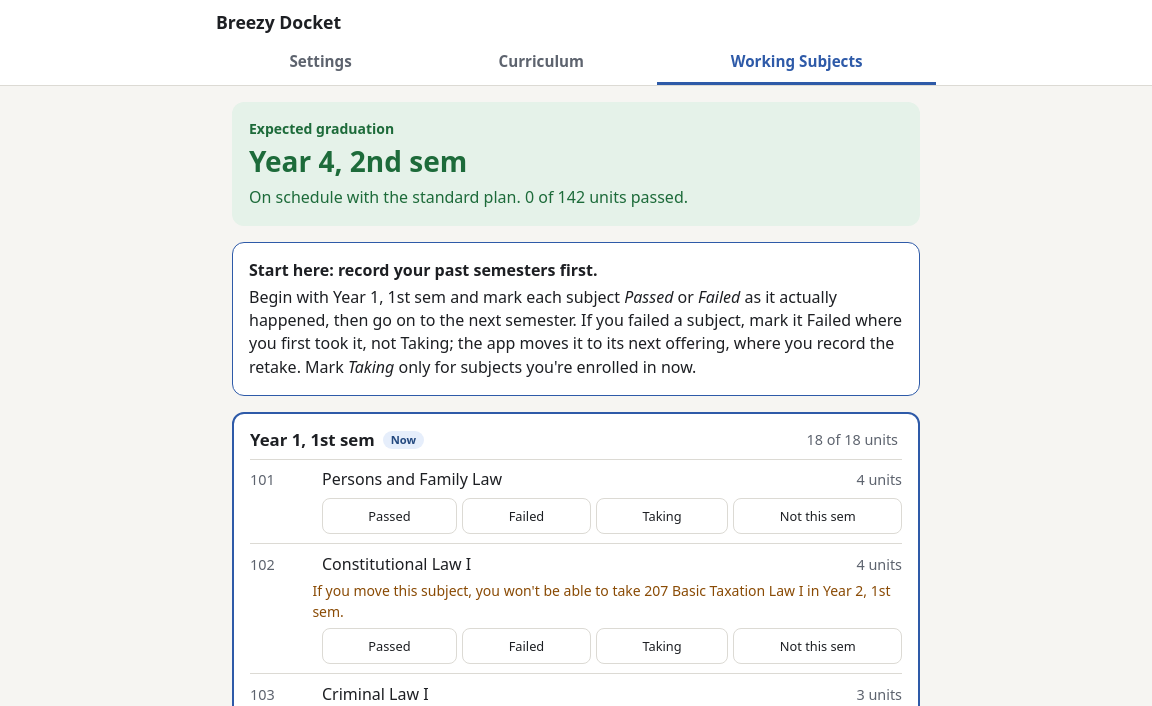
Test case: getting started › with no results yet, Working Subjects says to record past semesters first, in order
The width and height of the screenshot is (1152, 706).
Check: the element "Start here" shows "Start here: record your past semesters first.", box [249, 259, 598, 281]
Check: the element "Start here" shows "Begin with Year 1, 1st sem", box [232, 242, 920, 396]
Click the button "Passed" below "101": click(389, 516) [322, 498, 457, 534]
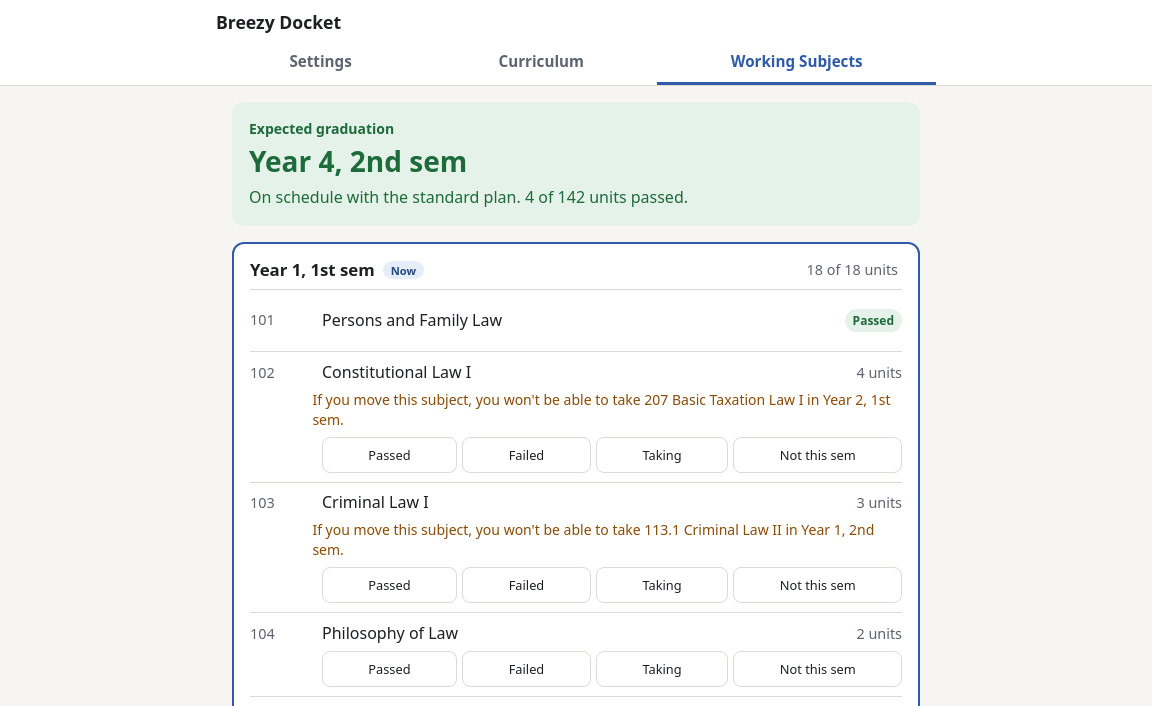
Check: the text "Start here" is gone
